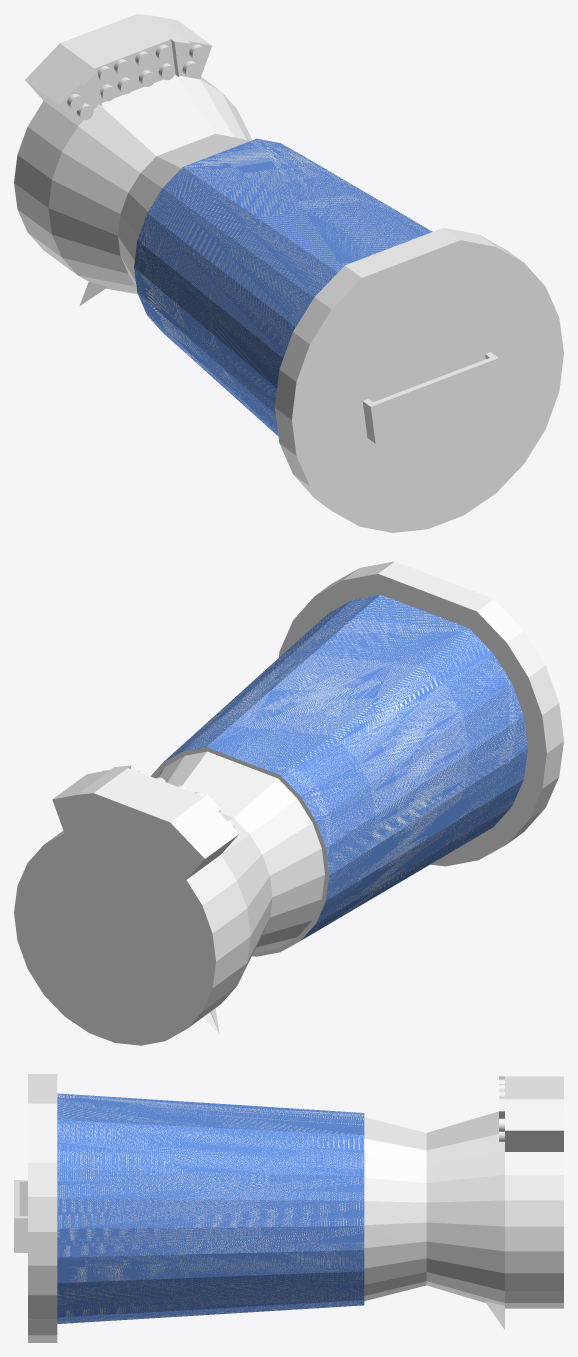
The picture shows the model from 3 angles, top to bottom: view 1: azimuth 30°, elevation 25°; view 2: azimuth 150°, elevation 25°; view 3: azimuth 270°, elevation 25°; orthographic projection. The views are drawn at different scales.
Visible parts, largest first — view 1: blender; view 2: blender; view 3: blender.
Boxes of the visible parts, x1,y1,x2,y2 form: blender: [14, 14, 563, 532]; blender: [14, 561, 563, 1045]; blender: [14, 1074, 563, 1342].
Bounding box in the file's own units: 28285 × 27906 × 57796.
